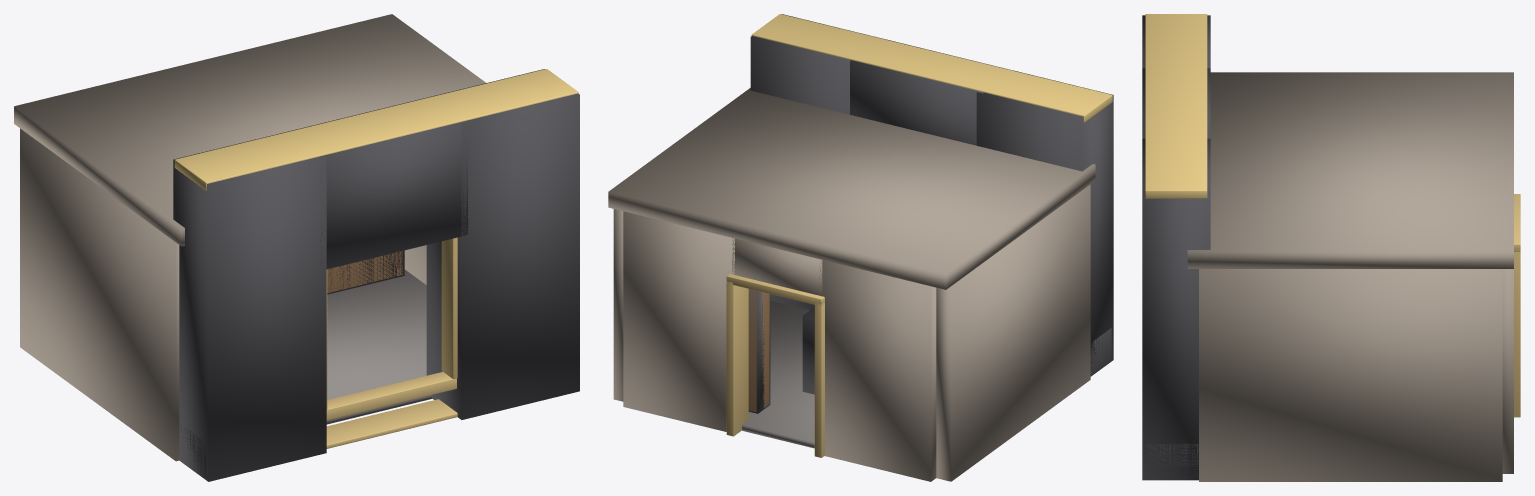
Rendered from vetrina_entrabile_retro.glb.
3 views of the same model, side by side, from view 1: azimuth 30°, elevation 25°; view 2: azimuth 150°, elevation 25°; view 3: azimuth 270°, elevation 25° (orthographic). The views are drawn at different scales.
Parts seen in each view (by area): view 1: COL_fronte_sx, int_soffitto, COL_fronte_dx, int_muro_sx, COL_sopraluce, cg_cima_e_1, int_pavimento, soglia, vt_e_basso, vm_e_3, scaffale, COL_scaffale (+1 smaller); view 2: int_soffitto, int_muro_sx, int_fondo_sx, int_fondo_dx, COL_fronte_sx, cg_cima_e_1, COL_sopraluce, COL_fronte_dx, int_pavimento, int_fondo_sopra, retro_cornice_dx, int_muro_dx (+6 smaller); view 3: int_muro_dx, int_soffitto, COL_fronte_dx, cg_cima_e_1, int_fondo_dx, retro_cornice_dx, zoccolo_1, COL_sopraluce, COL_fronte_sx, retro_cornice_su.
Boxes of the visible parts, bbox=[...] form: COL_fronte_sx: bbox=[173, 132, 326, 481]; int_soffitto: bbox=[14, 14, 485, 246]; COL_fronte_dx: bbox=[426, 69, 579, 419]; int_muro_sx: bbox=[20, 128, 179, 461]; COL_sopraluce: bbox=[285, 96, 468, 269]; cg_cima_e_1: bbox=[174, 69, 578, 190]; int_pavimento: bbox=[326, 269, 432, 424]; soglia: bbox=[326, 399, 457, 448]; vt_e_basso: bbox=[326, 372, 456, 420]; vm_e_3: bbox=[441, 237, 457, 378]; scaffale: bbox=[327, 251, 403, 292]; COL_scaffale: bbox=[327, 250, 404, 294]; int_soffitto: bbox=[608, 88, 1095, 289]; int_muro_sx: bbox=[936, 184, 1090, 481]; int_fondo_sx: bbox=[819, 260, 936, 481]; int_fondo_dx: bbox=[623, 211, 734, 431]; COL_fronte_sx: bbox=[976, 70, 1113, 376]; cg_cima_e_1: bbox=[751, 14, 1112, 122]; COL_sopraluce: bbox=[850, 38, 1013, 145]; COL_fronte_dx: bbox=[750, 14, 880, 309]; int_pavimento: bbox=[742, 300, 814, 448]; int_fondo_sopra: bbox=[732, 238, 822, 296]; retro_cornice_dx: bbox=[726, 281, 748, 436]; int_muro_dx: bbox=[613, 209, 623, 401]; int_muro_dx: bbox=[1199, 269, 1502, 481]; int_soffitto: bbox=[1187, 72, 1513, 268]; COL_fronte_dx: bbox=[1142, 138, 1210, 480]; cg_cima_e_1: bbox=[1145, 14, 1207, 198]; int_fondo_dx: bbox=[1502, 269, 1513, 473]; retro_cornice_dx: bbox=[1514, 250, 1520, 417]; zoccolo_1: bbox=[1146, 443, 1198, 479]; COL_sopraluce: bbox=[1142, 68, 1210, 138]; COL_fronte_sx: bbox=[1142, 15, 1210, 68]; retro_cornice_su: bbox=[1514, 194, 1520, 251].
Bounding box in the file's own units: 5.6 × 4.22 × 4.99.
